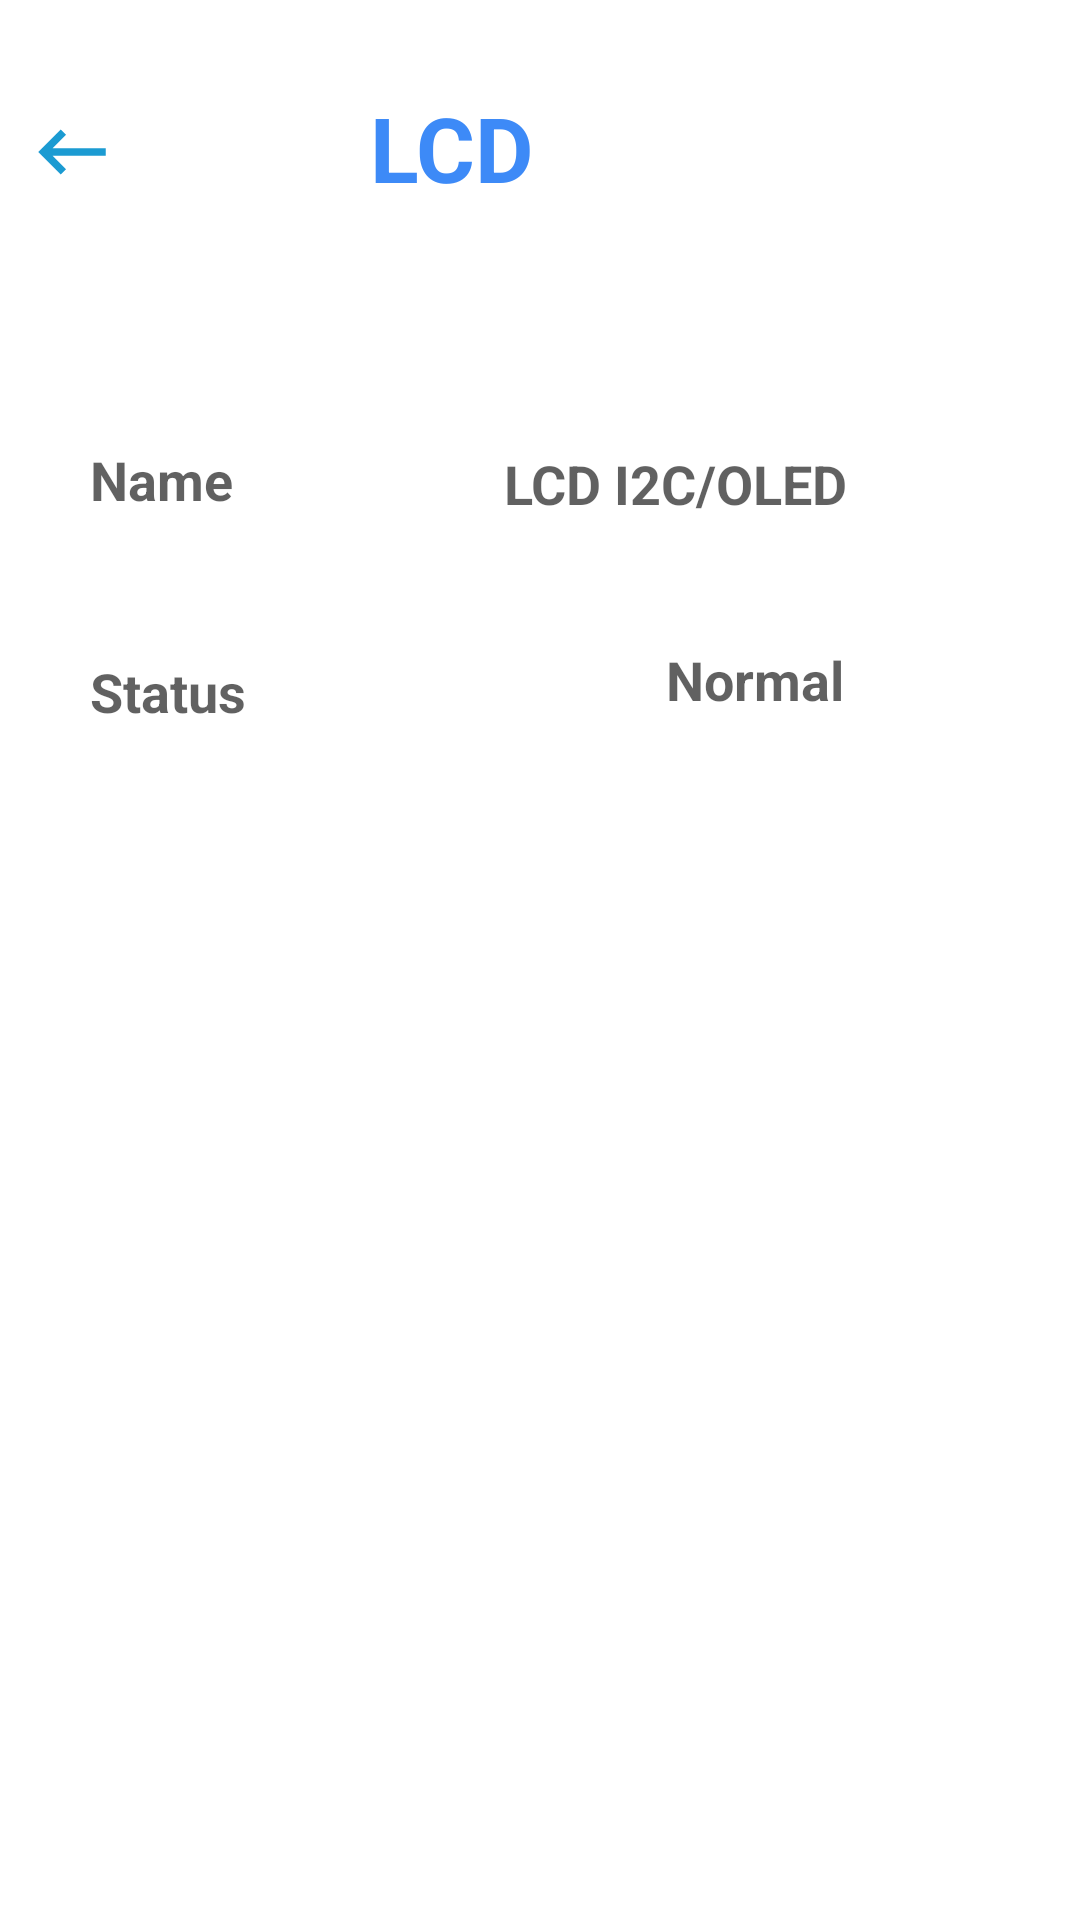

Icons on this 1080px×1920px Android screen, each with the point to tap as [x,y]:
keyboard backspace: [72,152]
